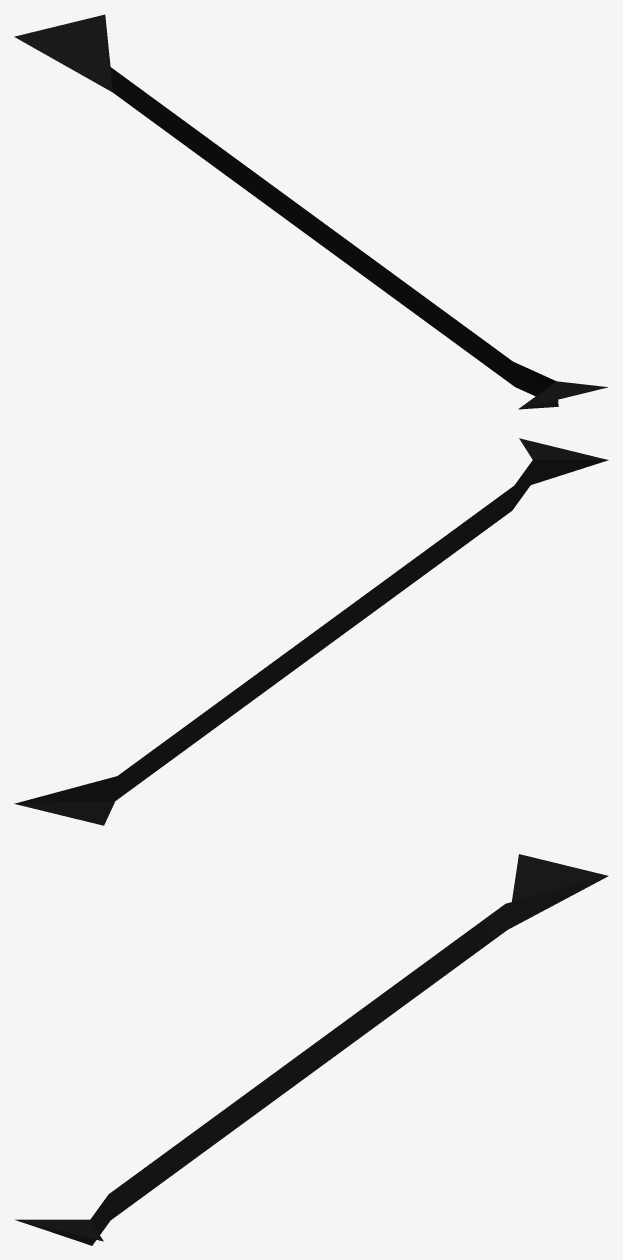
Rendered from skirt_R_skirt.glb.
The picture shows the model from 3 angles, top to bottom: view 1: azimuth 30°, elevation 25°; view 2: azimuth 150°, elevation 25°; view 3: azimuth 330°, elevation 25°; orthographic projection.
Parts seen in each view (by area): view 1: skirt_R_skirt; view 2: skirt_R_skirt; view 3: skirt_R_skirt.
Part boxes in pixels (x1,y1,x2,y2): skirt_R_skirt: (14, 14, 607, 409); skirt_R_skirt: (14, 438, 608, 825); skirt_R_skirt: (15, 854, 608, 1245).
Size of the model in its own units: 0.23 by 0.06 by 2.12.
Materials: 1 (1 with a texture image).
